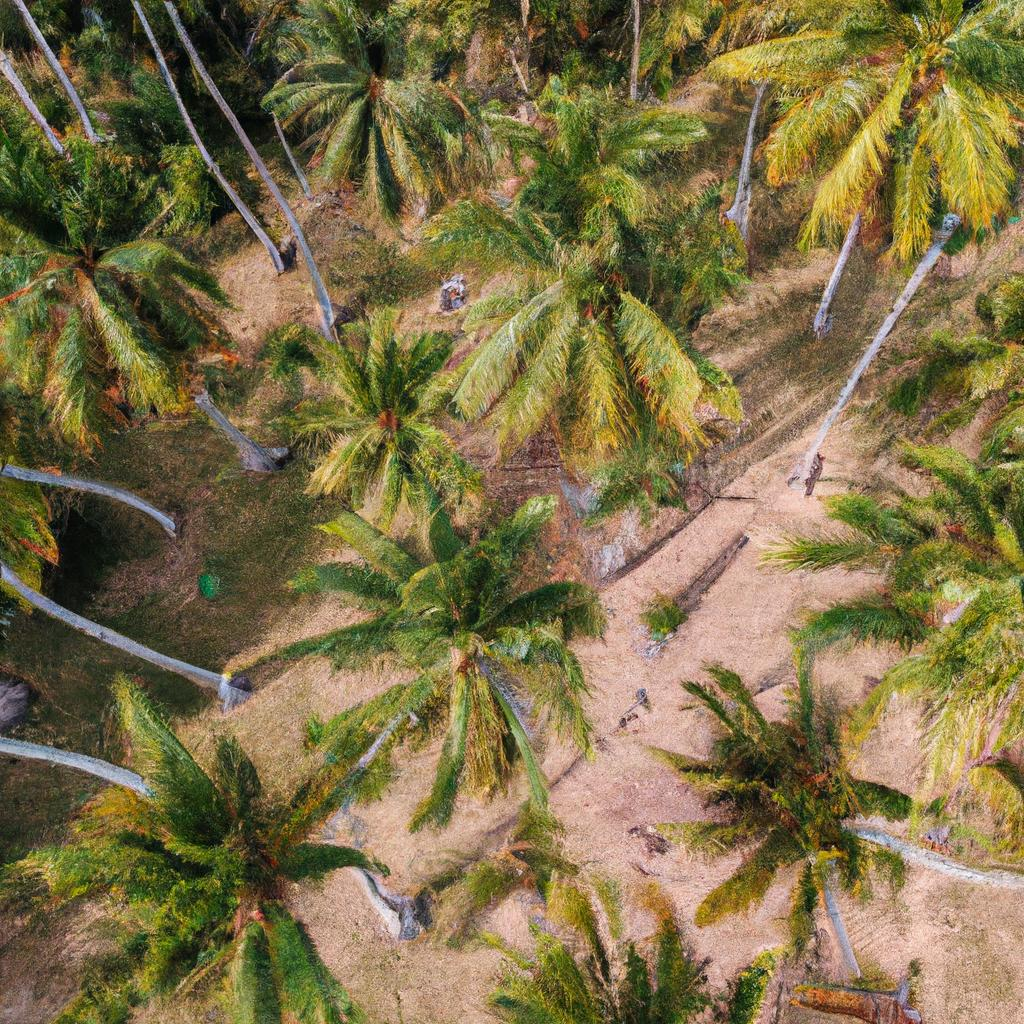coconut_tree: (47, 680, 370, 1023), (464, 139, 762, 443), (285, 486, 602, 754), (673, 705, 916, 918), (286, 324, 469, 488)
